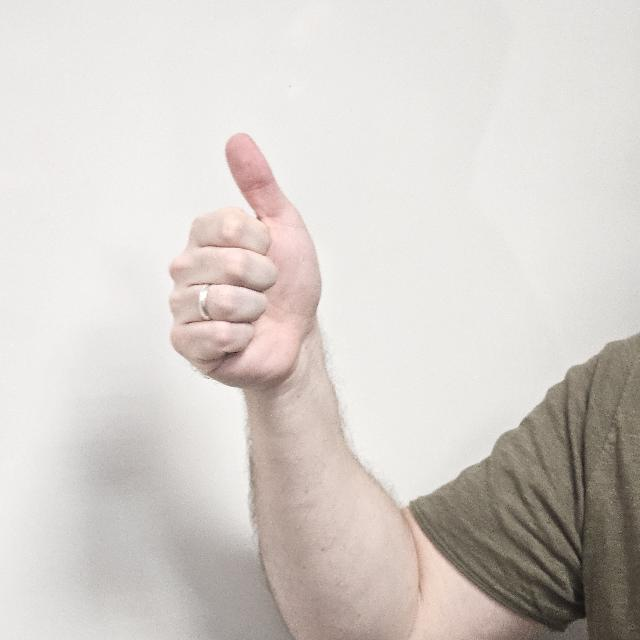Start: (167, 134, 331, 386)
